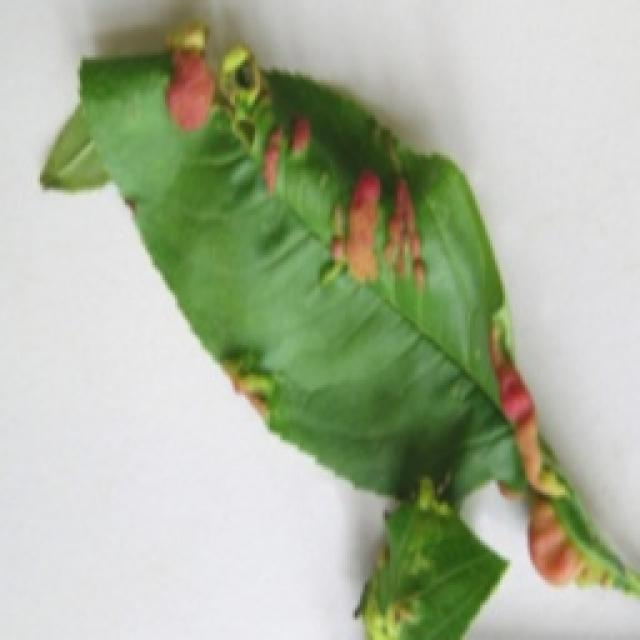peach_leaf_curl: (38, 18, 638, 638)
